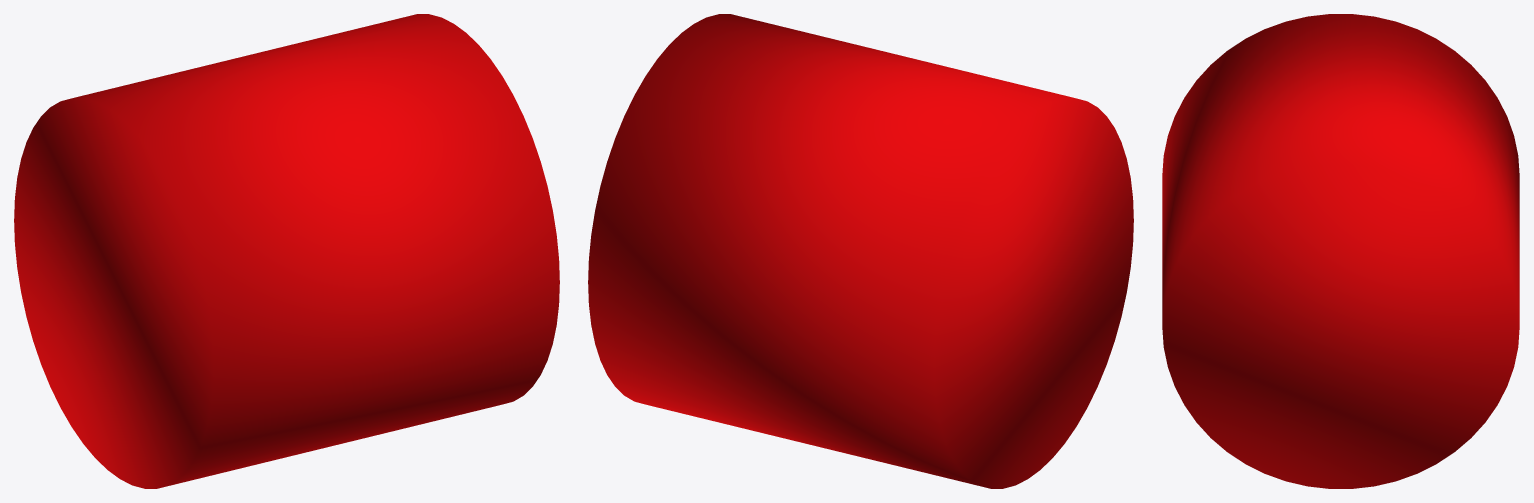
3 views of the same model, side by side, from view 1: azimuth 30°, elevation 25°; view 2: azimuth 150°, elevation 25°; view 3: azimuth 270°, elevation 25° (orthographic). The views are drawn at different scales.
Parts seen in each view (by area): view 1: Cylinder; view 2: Cylinder; view 3: Cylinder.
Boxes of the visible parts, box(x1,y1,x2,y2) form: Cylinder: box(14, 14, 559, 488); Cylinder: box(588, 14, 1133, 488); Cylinder: box(1162, 14, 1519, 488).
Bounding box in the file's own units: 1.8 × 1.8 × 1.8.
